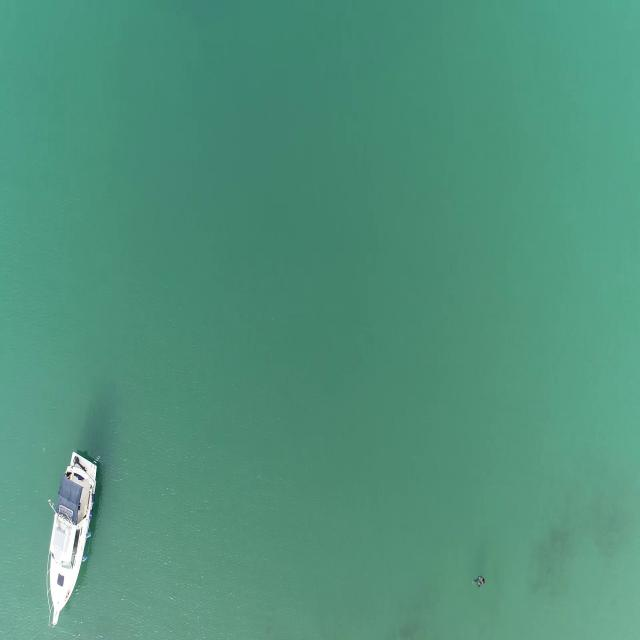boat: (43, 448, 104, 628)
person: (472, 572, 488, 592)
